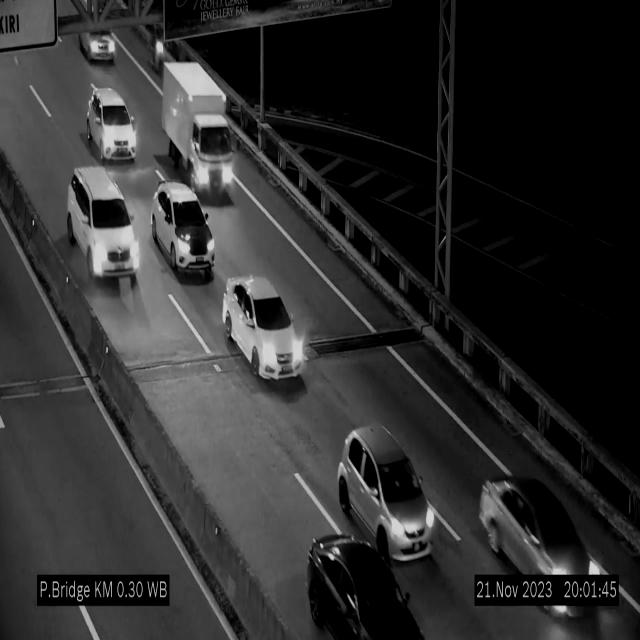Car: (471, 461, 601, 631), (304, 531, 444, 640), (339, 424, 433, 560), (223, 276, 305, 382), (67, 167, 138, 282), (151, 182, 215, 281), (86, 88, 137, 160), (79, 17, 126, 67)
Motorcycle: (144, 22, 170, 74)
Truck: (159, 58, 237, 198)
